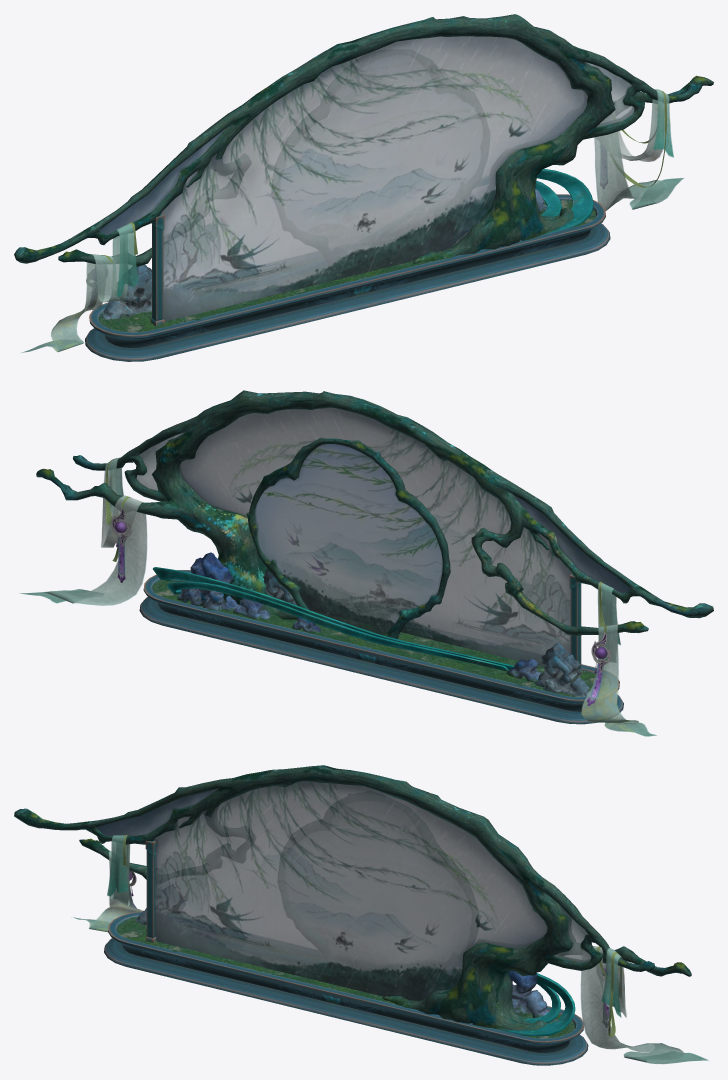
Rendered from furniture-20643.glb.
3 renders of one model, top to bottom at view 1: azimuth 30°, elevation 25°; view 2: azimuth 150°, elevation 25°; view 3: azimuth 330°, elevation 25°, orthographic. The views are drawn at different scales.
Bounding box in the file's own units: 8.25 × 2.89 × 1.09.
Materials: 3 (3 with a texture image).
